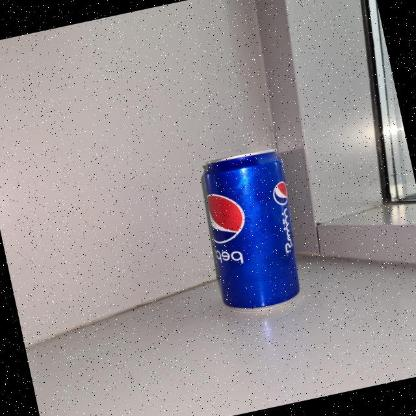Can: (193, 142, 313, 320)
